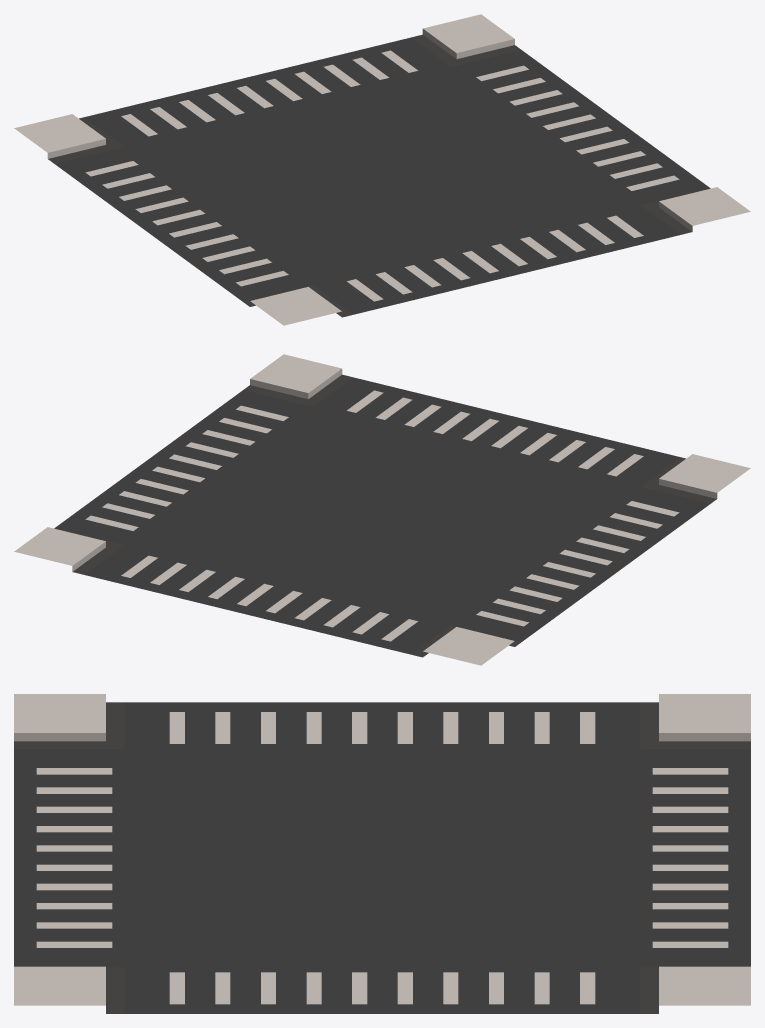
File: crosswalk.glb
3 views of the same model, one above another, from view 1: azimuth 30°, elevation 25°; view 2: azimuth 150°, elevation 25°; view 3: azimuth 270°, elevation 25° (orthographic). The views are drawn at different scales.
Parts seen in each view (by area): view 1: Street_4Way; view 2: Street_4Way; view 3: Street_4Way.
Boxes of the visible parts, x1,y1,x2,y2 form: Street_4Way: [14, 14, 750, 325]; Street_4Way: [14, 354, 750, 665]; Street_4Way: [14, 694, 750, 1013].
Bounding box in the file's own units: 8 × 0.0996 × 8.
Materials: 1 (1 with a texture image).
